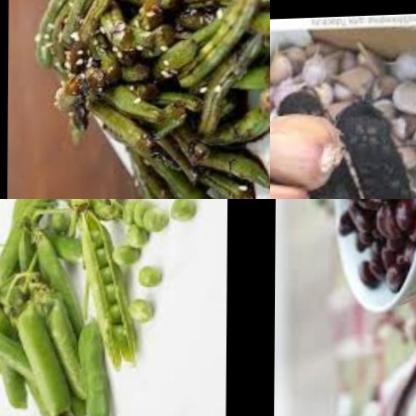fasol: (29, 0, 270, 199), (321, 199, 416, 280)
garlic: (270, 28, 397, 109), (270, 108, 349, 197), (387, 48, 416, 199)
peas: (0, 199, 104, 416), (74, 206, 134, 384), (115, 206, 166, 325), (162, 199, 204, 242)
